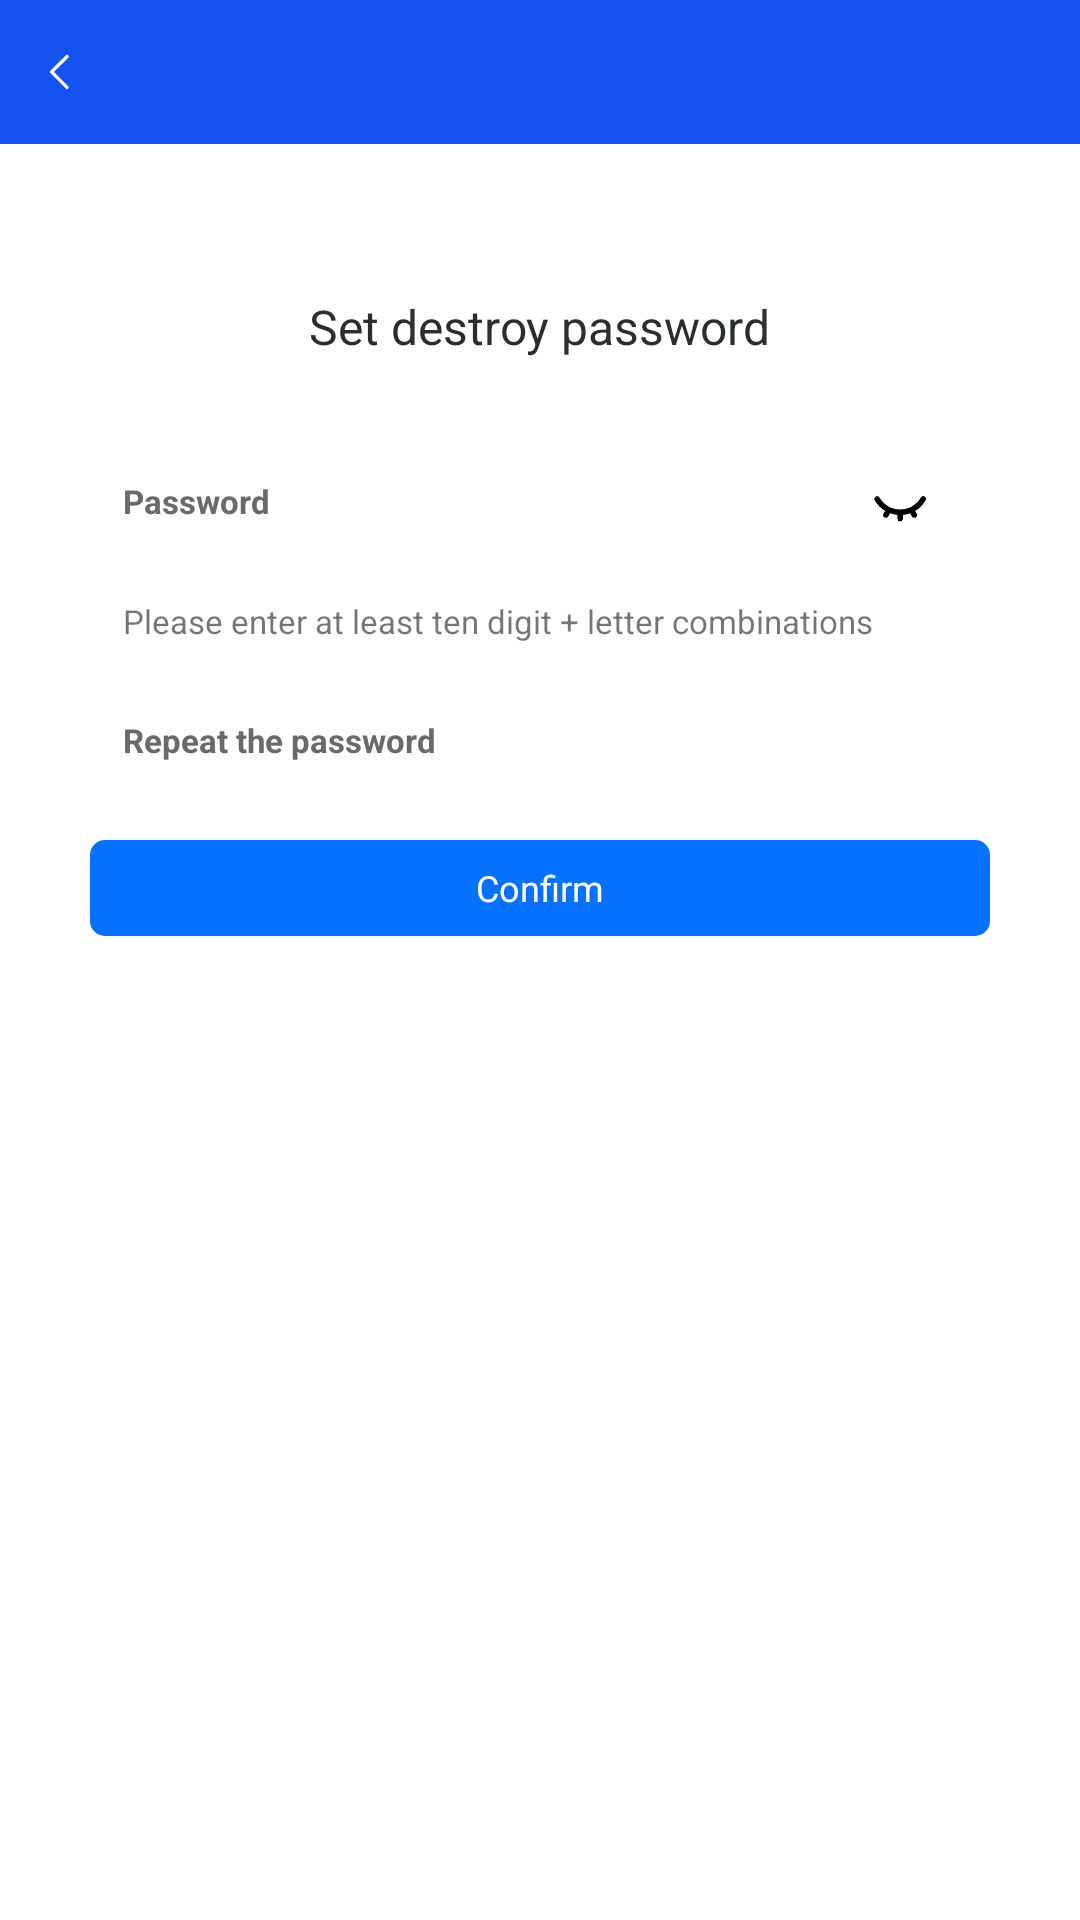

Icon bounding boxes for this 1080px x 1920px phone screenshot, format (x1, y1, x2, y2):
back: (50, 54, 69, 89)
nosee: (874, 496, 926, 522)
